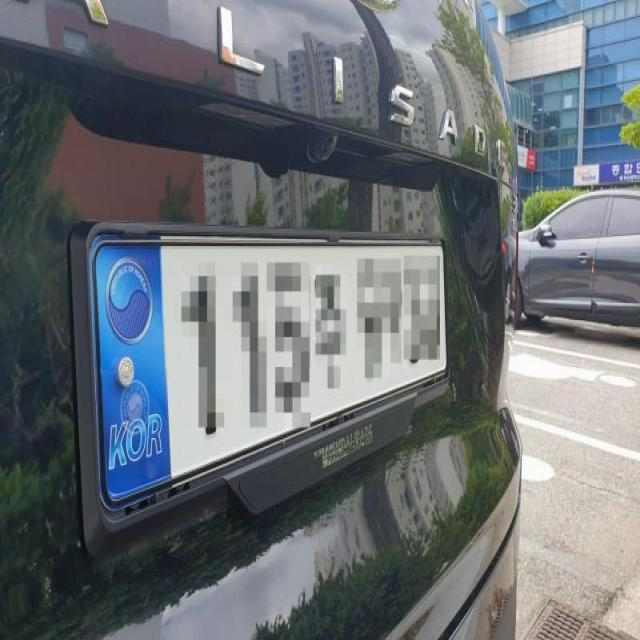illegal_plate: (74, 203, 456, 541)
